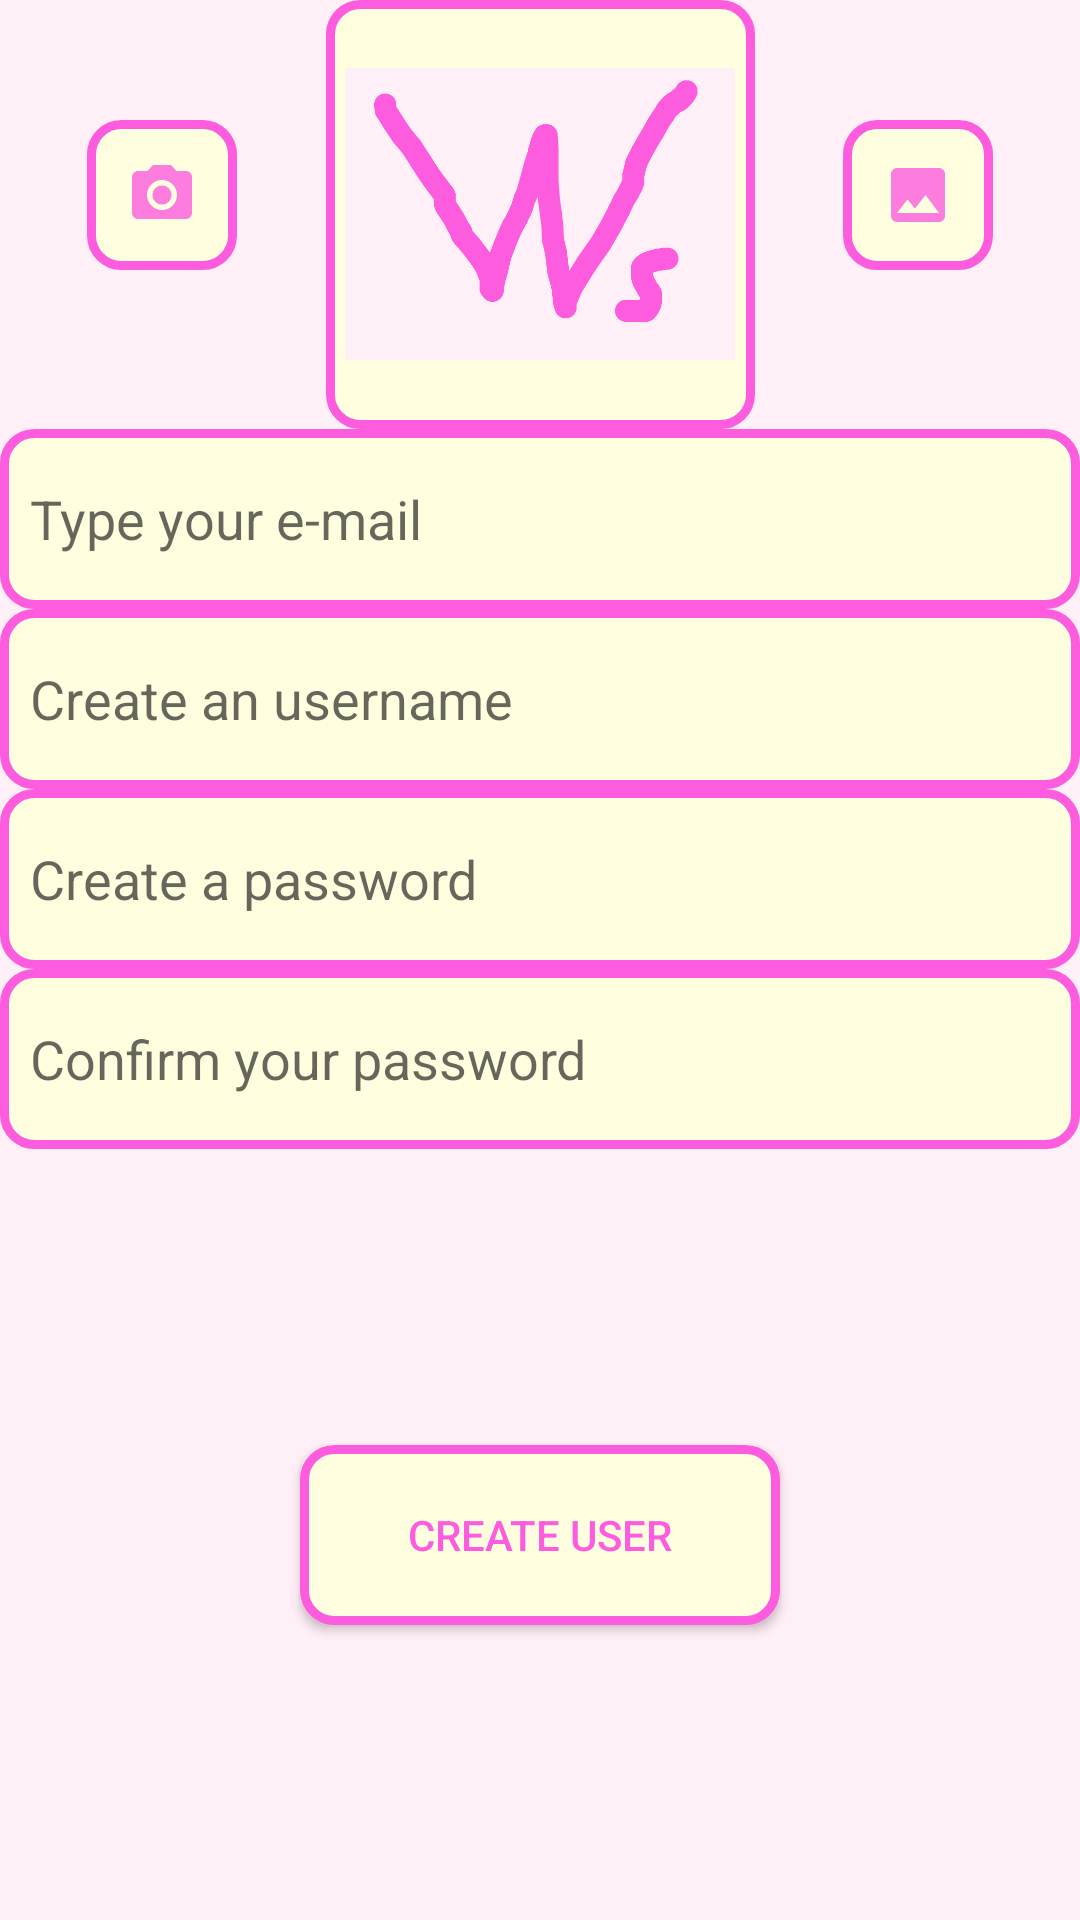

Icon click points for this 1080px×1920px phone screenshot, format point (x, y):
camera: point (162, 195)
